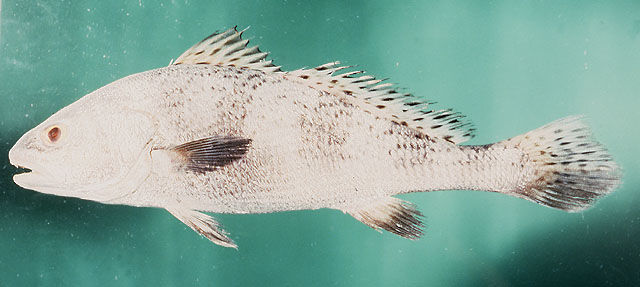fish: (8, 26, 623, 251)
